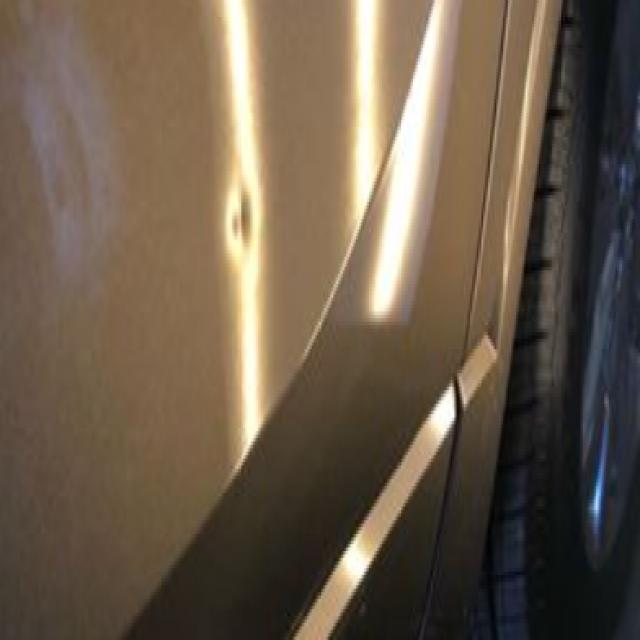dents: (223, 170, 266, 271)
